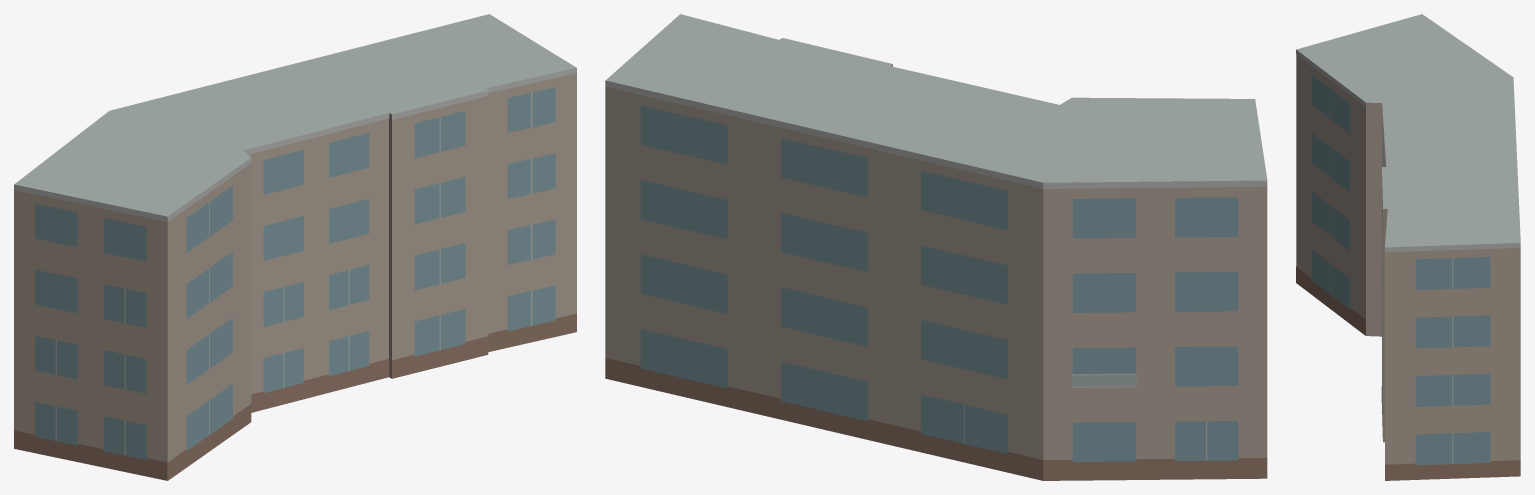
File: survey-upis-32824953.glb
The picture shows the model from 3 angles, left to right: view 1: azimuth 30°, elevation 25°; view 2: azimuth 150°, elevation 25°; view 3: azimuth 270°, elevation 25°; orthographic projection. The views are drawn at different scales.
Visible parts, largest first — view 1: survey-upis-32824953.tmp; view 2: survey-upis-32824953.tmp; view 3: survey-upis-32824953.tmp.
Part boxes in pixels (x1,y1,x2,y2): survey-upis-32824953.tmp: (14, 14, 576, 480); survey-upis-32824953.tmp: (605, 14, 1267, 480); survey-upis-32824953.tmp: (1296, 14, 1520, 480).
Size of the model in its own units: 25.1 by 11.7 by 10.21.
